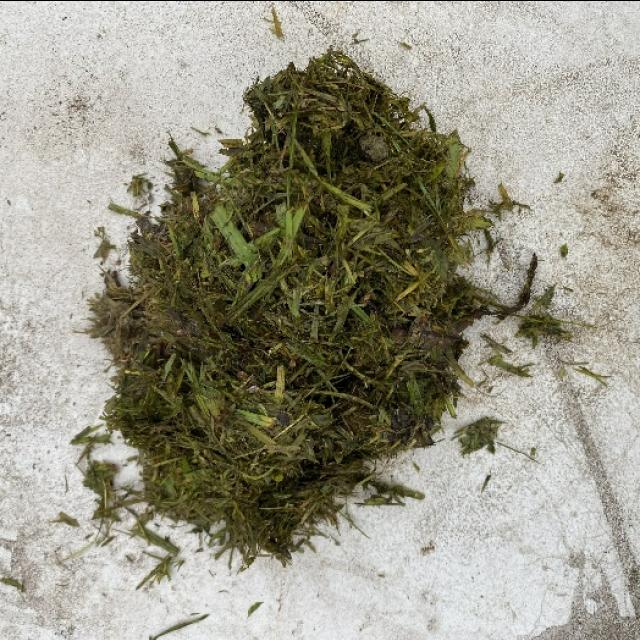organik: (103, 68, 485, 540)
